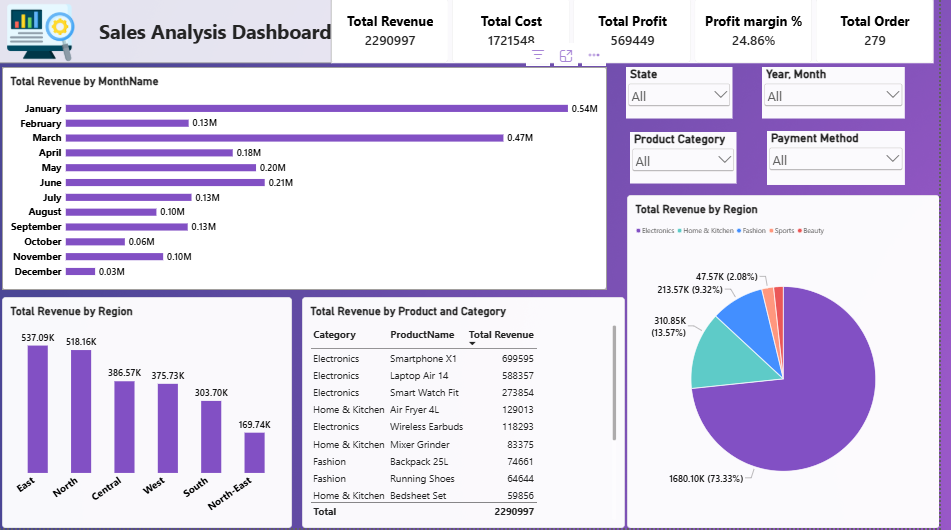

The dashboard page shown, as its layout file describes it:
{"tool":"powerbi","page":{"name":"Sales Overview","canvas":[1920,1080],"ordinal":0},"visuals":[{"type":"cardVisual","fields":{"Data":["01_DAX (2).Total Revenue","01_DAX (2).Total Cost","01_DAX (2).Total Profit","01_DAX (2).Profit margin %","01_DAX (2).Total Order"]},"box":[681.5,0,1228,132.9],"z":0},{"type":"columnChart","title":"Total Revenue by Region","fields":{"Category":["Region_Dim.RegionName"],"Y":["01_DAX (2).Total Revenue"]},"box":[10.5,609.8,590.8,470.5],"z":1000},{"type":"pieChart","title":"Total Revenue by Region","fields":{"Category":["Products_Dim.Category"],"Y":["01_DAX (2).Total Revenue"]},"box":[1282.8,400.9,637.2,679.4],"z":2000},{"type":"tableEx","title":"Total Revenue by Product and Category","fields":{"Values":["Products_Dim.Category","Products_Dim.ProductName","01_DAX (2).Total Revenue"]},"box":[622.4,609.8,658.3,470.5],"z":3000},{"type":"barChart","fields":{"Category":["Date_Dim.MonthName"],"Y":["01_DAX (2).Total Revenue"]},"box":[10.5,141.4,1232.2,453.6],"z":4000},{"type":"slicer","fields":{"Values":["Date_Dim.Year","Date_Dim.MonthName"]},"box":[1559.2,141.4,291.2,105.5],"z":4002},{"type":"slicer","fields":{"Values":["Customers_Dim.State"]},"box":[1281,141.4,217.3,105.5],"z":4003},{"type":"slicer","fields":{"Values":["Orders_Fact.PaymentMethod"]},"box":[1569.8,270.1,280.6,109.7],"z":4004},{"type":"slicer","fields":{"Values":["Products_Dim.Category"]},"box":[1289.1,272.2,217.3,105.5],"z":4005},{"type":"shape","title":"Sales Analysis Dashboard","box":[0,0,681.5,132.9],"z":4006},{"type":"image","box":[10.5,0,158.2,141.4],"z":4007}]}

Visuals, with their boxes in screenshot pixels (x1, y1, x2, y2), scaled from the page's 1920x1080 canvas onto the 951x530 screenshot:
cardVisual - 01_DAX (2).Total Revenue x 01_DAX (2).Total Cost: {"left": 338, "top": 0, "right": 946, "bottom": 65}
"Total Revenue by Region" columnChart: {"left": 5, "top": 299, "right": 298, "bottom": 529}
"Total Revenue by Region" pieChart: {"left": 635, "top": 197, "right": 950, "bottom": 529}
"Total Revenue by Product and Category" tableEx: {"left": 308, "top": 299, "right": 634, "bottom": 529}
barChart - Date_Dim.MonthName x 01_DAX (2).Total Revenue: {"left": 5, "top": 69, "right": 616, "bottom": 292}
slicer - Date_Dim.Year x Date_Dim.MonthName: {"left": 772, "top": 69, "right": 917, "bottom": 121}
slicer - Customers_Dim.State: {"left": 634, "top": 69, "right": 742, "bottom": 121}
slicer - Orders_Fact.PaymentMethod: {"left": 778, "top": 133, "right": 917, "bottom": 186}
slicer - Products_Dim.Category: {"left": 639, "top": 134, "right": 746, "bottom": 185}
"Sales Analysis Dashboard" shape: {"left": 0, "top": 0, "right": 338, "bottom": 65}
image: {"left": 5, "top": 0, "right": 84, "bottom": 69}
